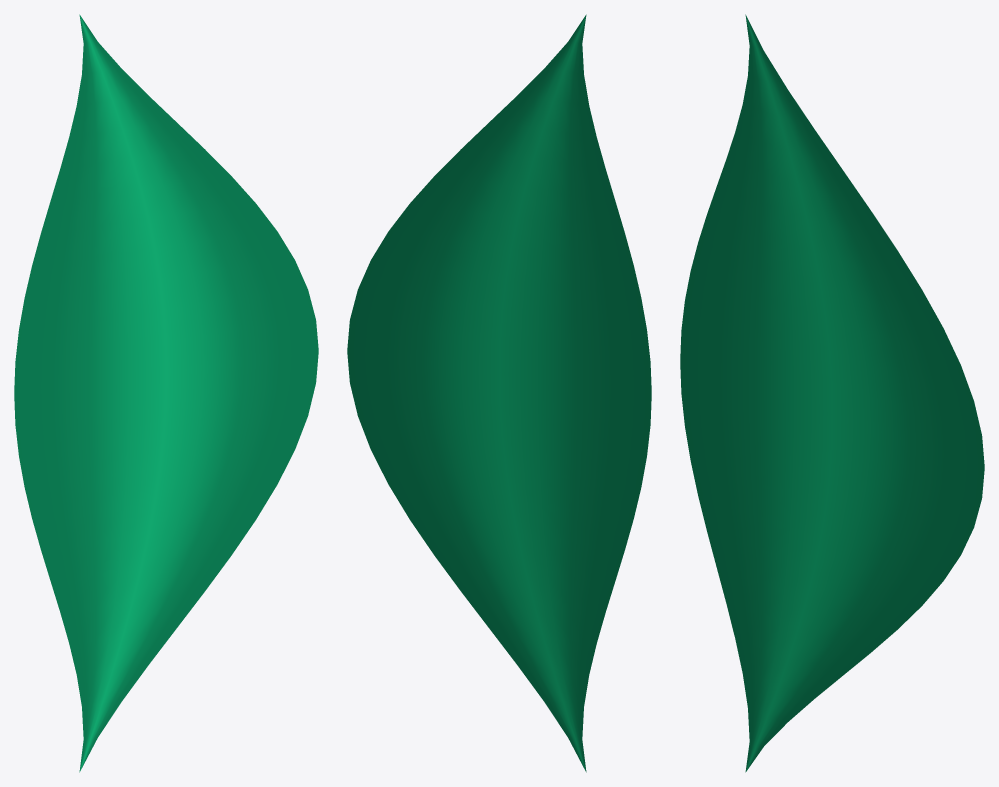
File: Venti_Feather.fbx
3 renders of one model, left to right at view 1: azimuth 30°, elevation 25°; view 2: azimuth 150°, elevation 25°; view 3: azimuth 330°, elevation 25°, orthographic.
Parts seen in each view (by area): view 1: Venti_Feather; view 2: Venti_Feather; view 3: Venti_Feather.
Boxes of the visible parts, box(x1,y1,x2,y2) form: Venti_Feather: box(14, 14, 318, 772); Venti_Feather: box(347, 14, 651, 772); Venti_Feather: box(680, 14, 984, 772).
Bounding box in the file's own units: 0.42 × 1 × 1.63e-07.
